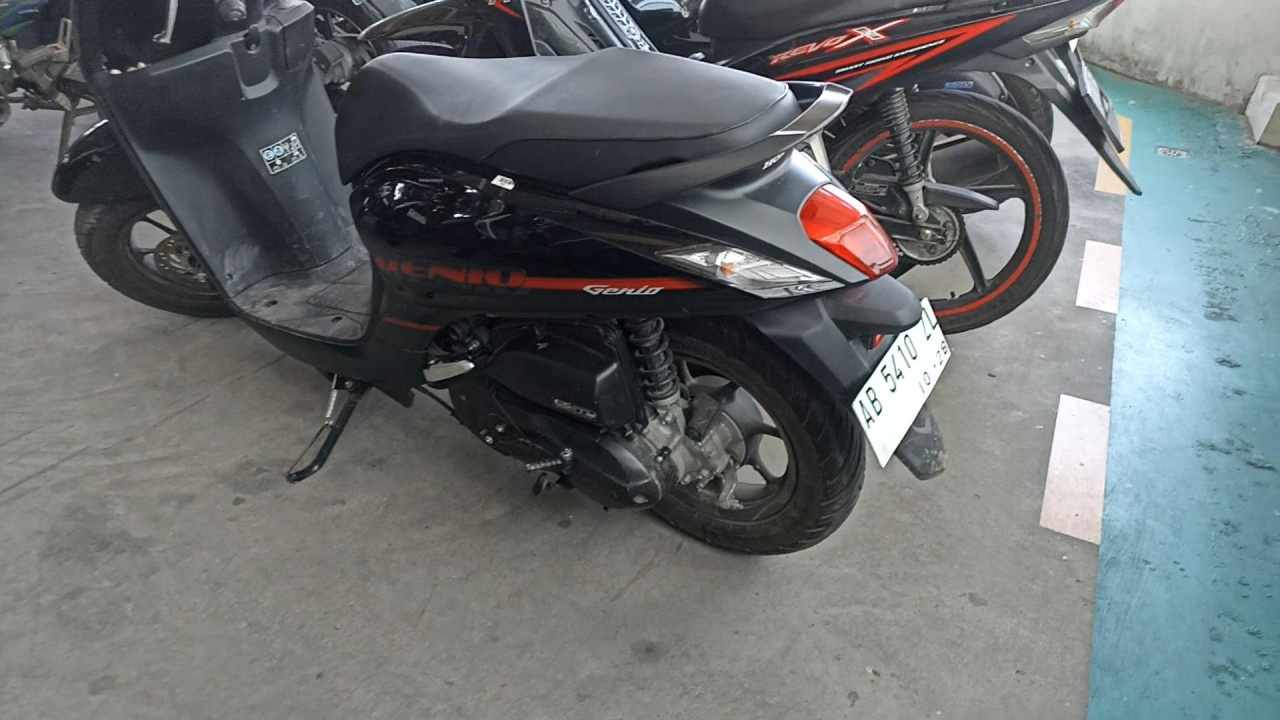plate: (852, 296, 953, 469)
